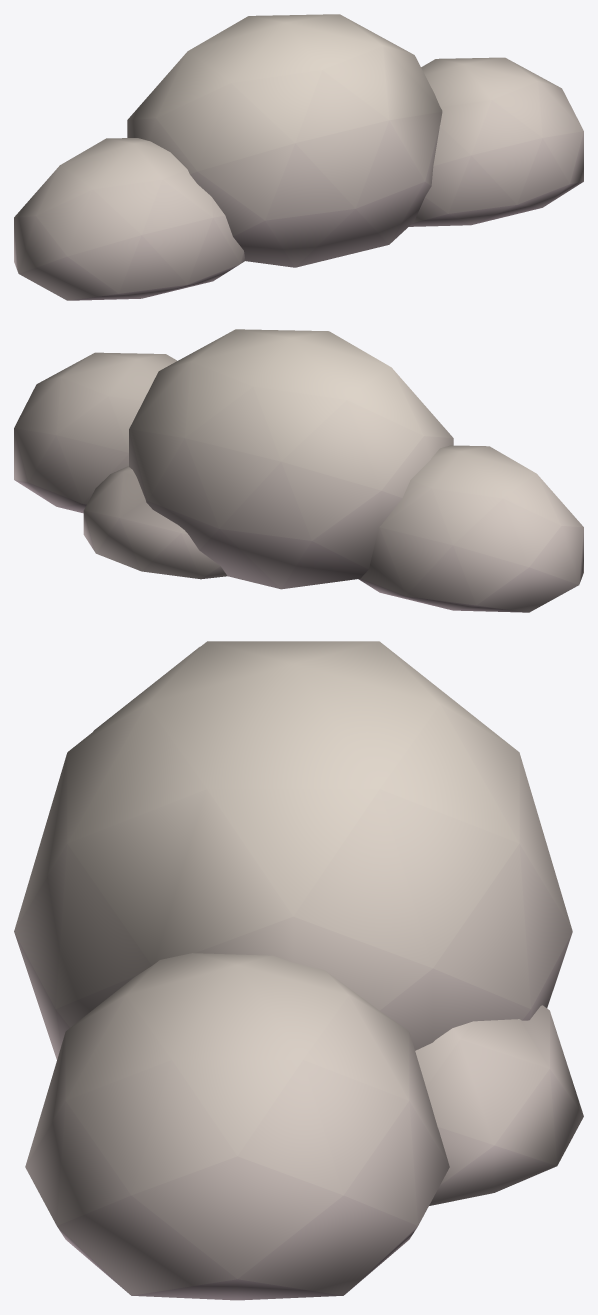
File: nuage_B.glb
The picture shows the model from 3 angles, top to bottom: view 1: azimuth 30°, elevation 25°; view 2: azimuth 150°, elevation 25°; view 3: azimuth 270°, elevation 25°; orthographic projection. The views are drawn at different scales.
Parts seen in each view (by area): view 1: nuage_B; view 2: nuage_B; view 3: nuage_B.
Boxes of the visible parts, x1,y1,x2,y2 form: nuage_B: (14,14,583,300); nuage_B: (14,329,583,612); nuage_B: (14,641,583,1300).
Size of the model in its own units: 4.55 by 1.51 by 2.04.
